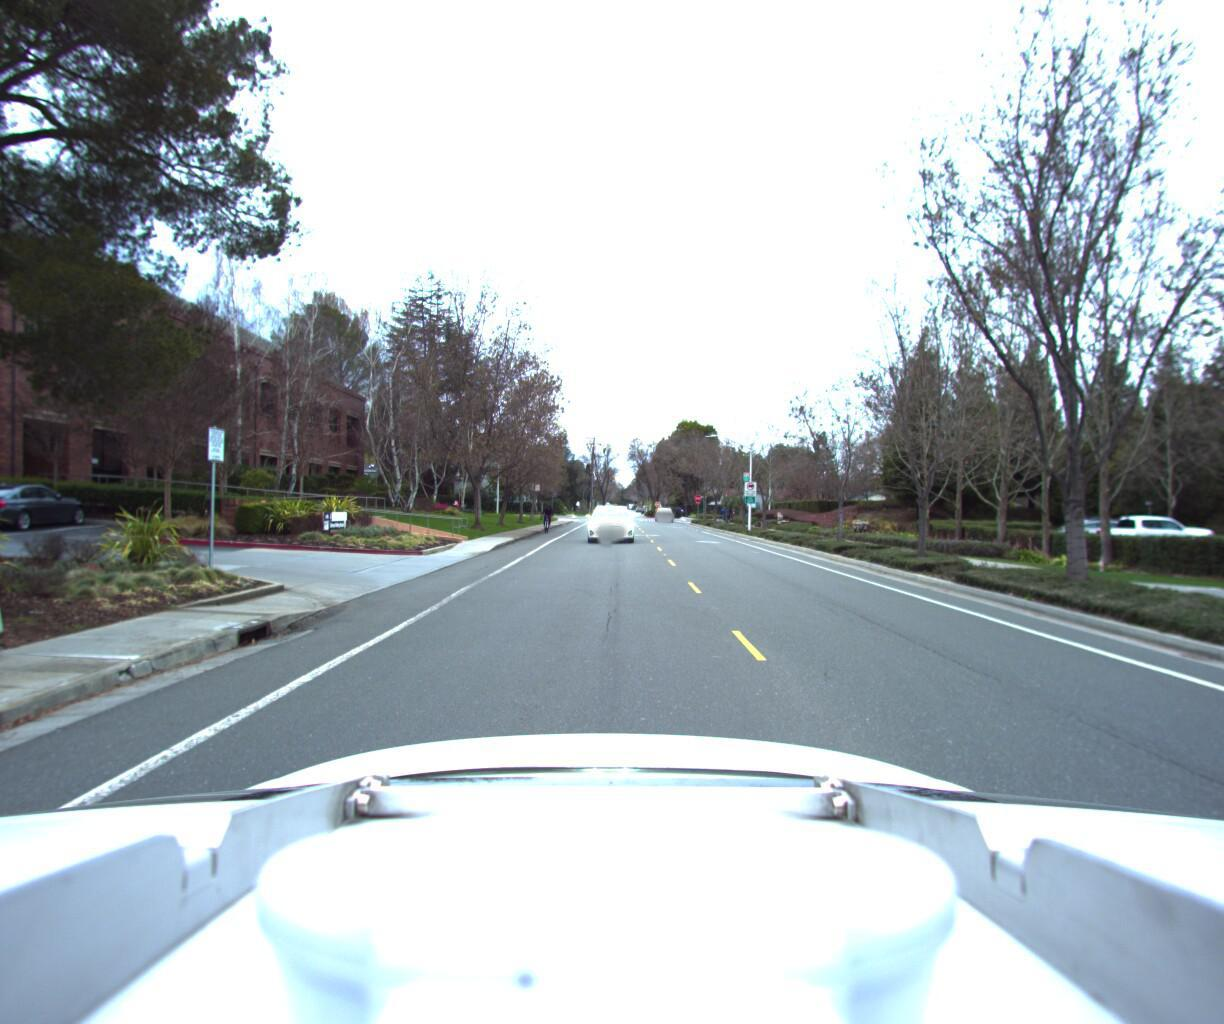bicycle: (541, 502, 558, 535)
car: (587, 507, 638, 548), (655, 508, 676, 523)
